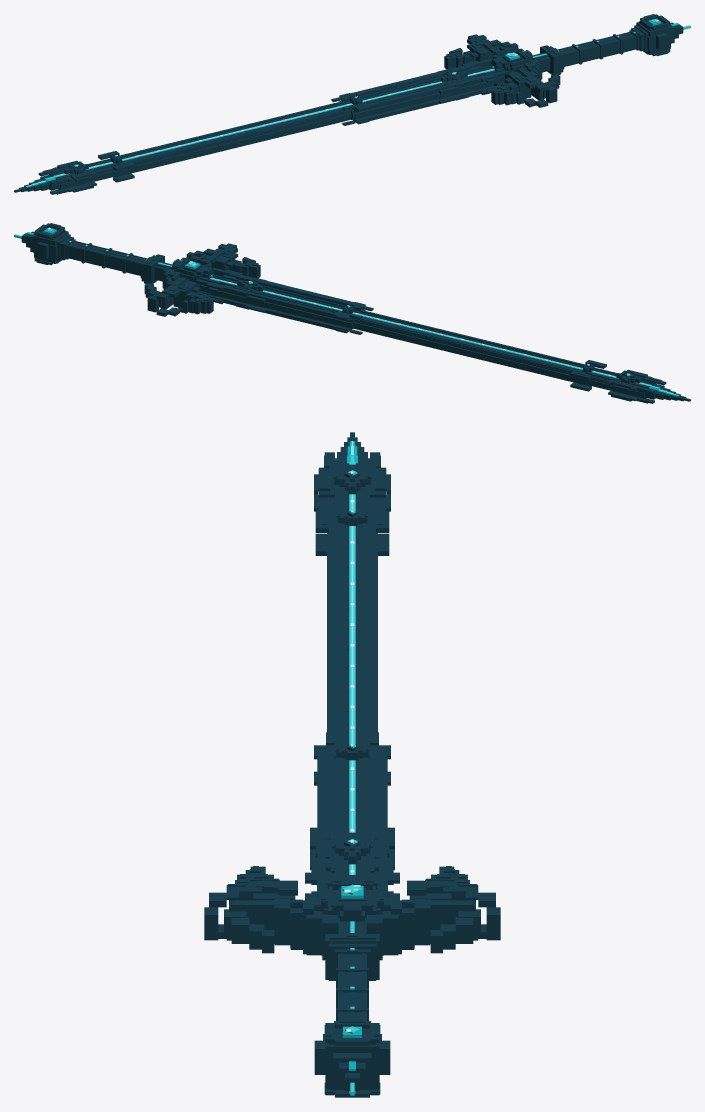
Rendered from sword.obj.
The picture shows the model from 3 angles, top to bottom: view 1: azimuth 30°, elevation 25°; view 2: azimuth 150°, elevation 25°; view 3: azimuth 270°, elevation 25°; orthographic projection. The views are drawn at different scales.
Size of the model in its own units: 1 by 0.0448 by 0.1898.
